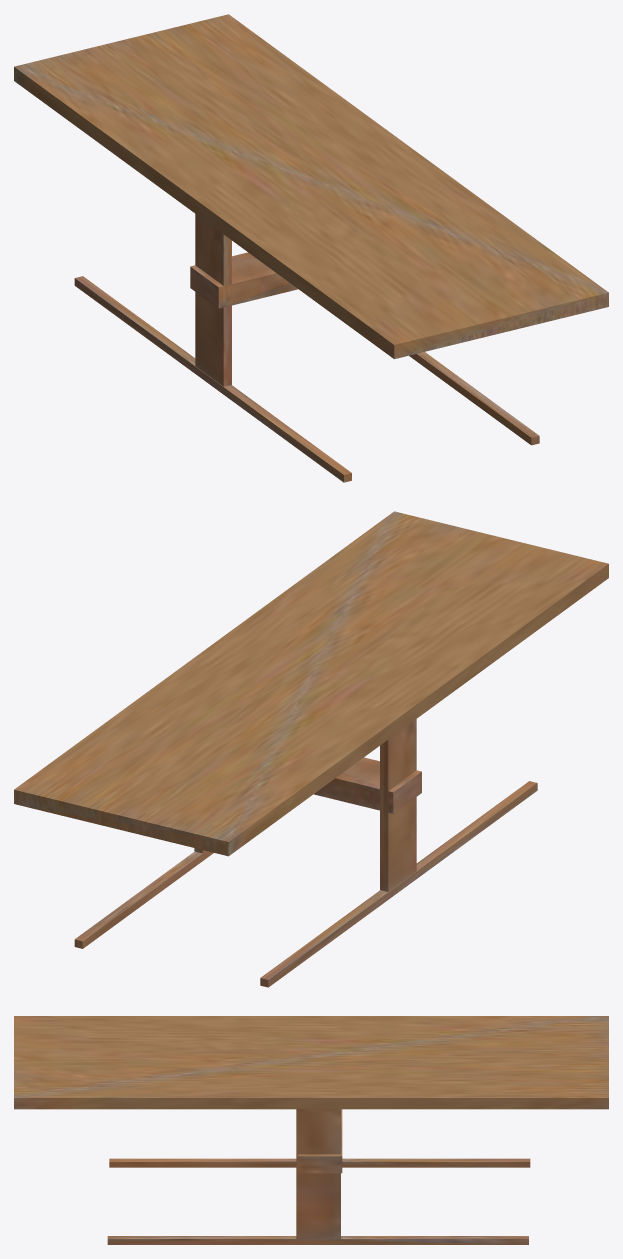
File: table_0.glb
3 renders of one model, top to bottom at view 1: azimuth 30°, elevation 25°; view 2: azimuth 150°, elevation 25°; view 3: azimuth 270°, elevation 25°, orthographic. The views are drawn at different scales.
Parts seen in each view (by area): view 1: table_0; view 2: table_0; view 3: table_0.
Part boxes in pixels (<box>): table_0: <box>14,14,608,482</box>; table_0: <box>14,511,608,987</box>; table_0: <box>14,1016,608,1244</box>.
Bounding box in the file's own units: 1.55 × 1.33 × 4.75.
Materials: 1 (1 with a texture image).
